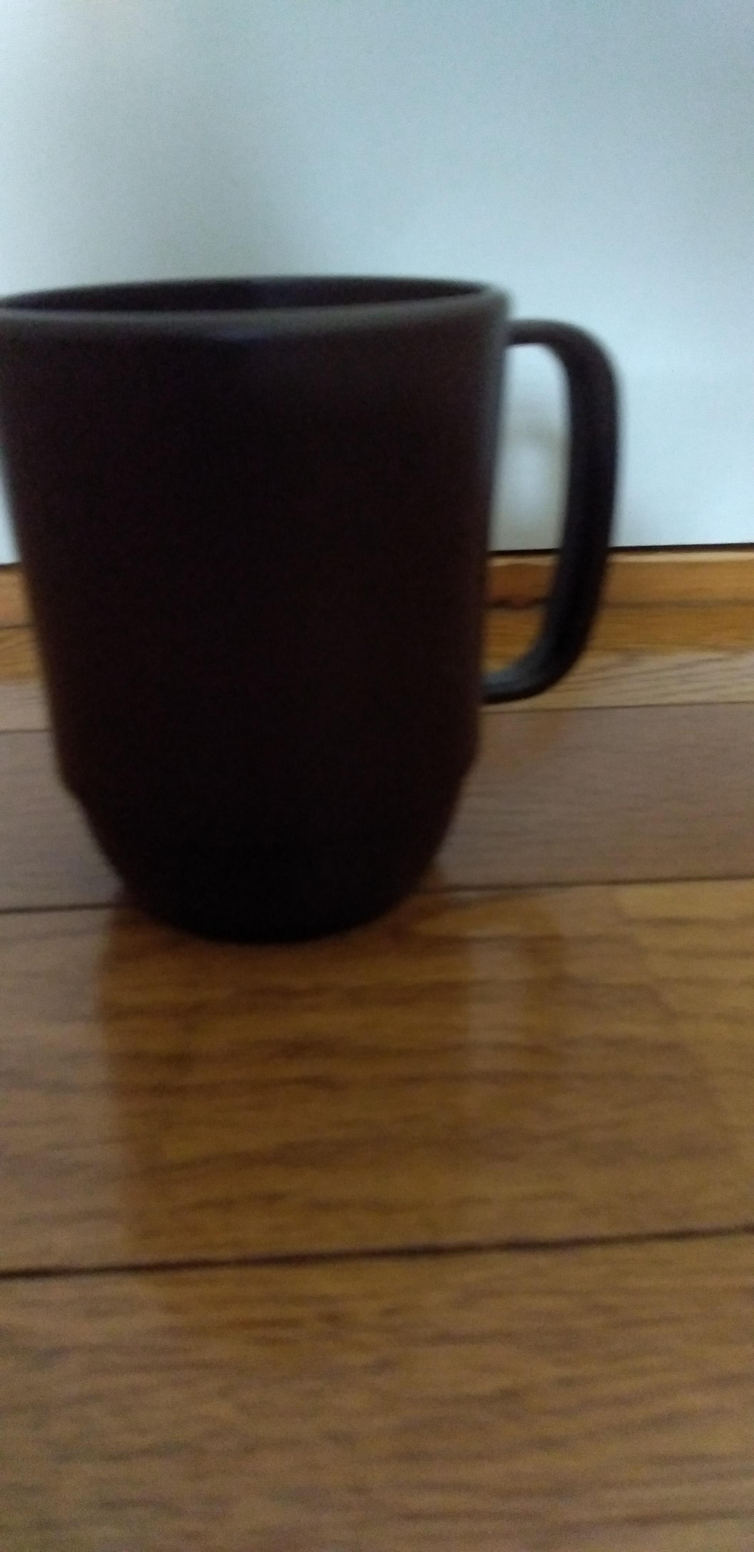mug-real100-3d100: (0, 276, 618, 942)
